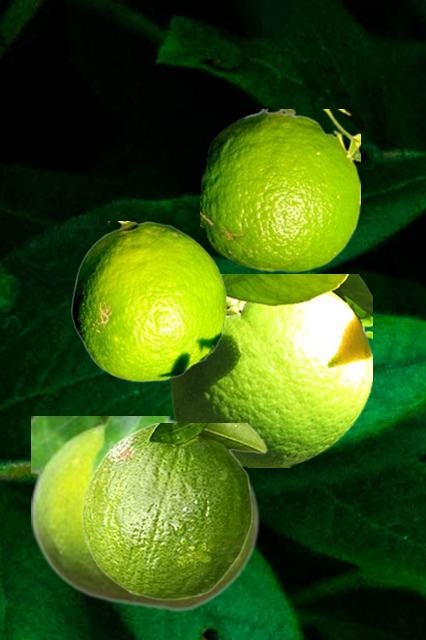dalandan: (31, 416, 259, 611), (169, 274, 371, 466), (81, 423, 266, 599), (200, 109, 359, 271), (71, 221, 226, 381)
